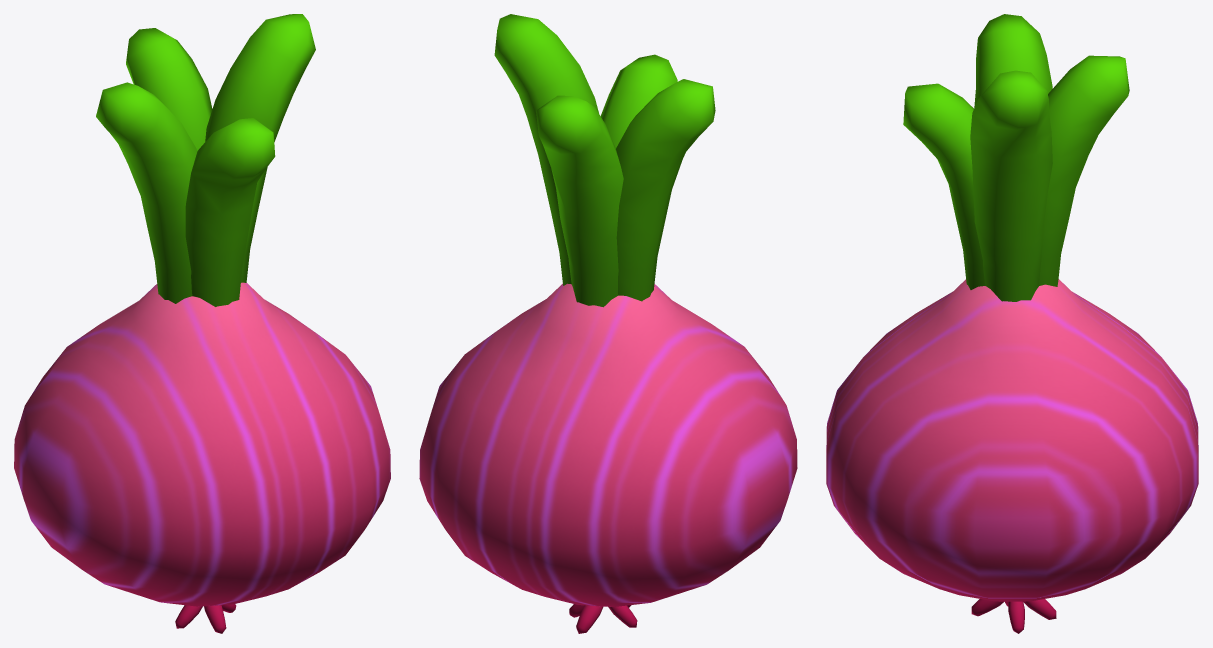
Rendered from Farm_Crop_Onion_01.fbx.
3 renders of one model, left to right at view 1: azimuth 30°, elevation 25°; view 2: azimuth 150°, elevation 25°; view 3: azimuth 270°, elevation 25°, orthographic.
Parts seen in each view (by area): view 1: Farm_Crop_Onion_01; view 2: Farm_Crop_Onion_01; view 3: Farm_Crop_Onion_01.
Part boxes in pixels (bbox=[...]): Farm_Crop_Onion_01: bbox=[14, 14, 390, 633]; Farm_Crop_Onion_01: bbox=[419, 14, 797, 633]; Farm_Crop_Onion_01: bbox=[826, 14, 1198, 633].
Size of the model in its own units: 27.98 by 48.34 by 27.98.
